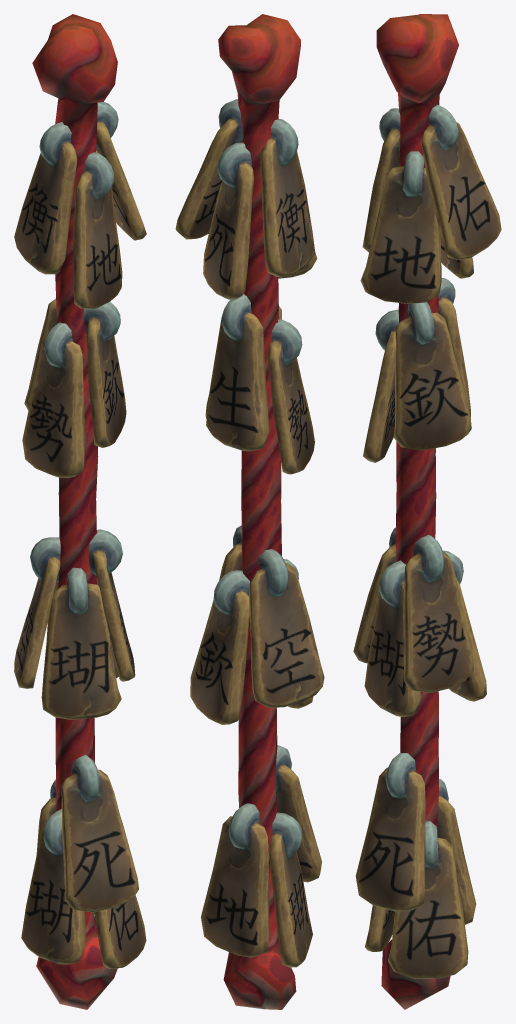
The model's file is SM_Rope_amulet.fbx.
3 views of the same model, side by side, from view 1: azimuth 30°, elevation 25°; view 2: azimuth 150°, elevation 25°; view 3: azimuth 330°, elevation 25° (orthographic).
Visible parts, largest first — view 1: SM_Rope_amulet_LOD0; view 2: SM_Rope_amulet_LOD0; view 3: SM_Rope_amulet_LOD0.
Boxes of the visible parts, x1,y1,x2,y2 form: SM_Rope_amulet_LOD0: [14, 14, 146, 1009]; SM_Rope_amulet_LOD0: [175, 14, 324, 1009]; SM_Rope_amulet_LOD0: [353, 14, 501, 1009].
Size of the model in its own units: 9.03 by 8.08 by 67.04.
